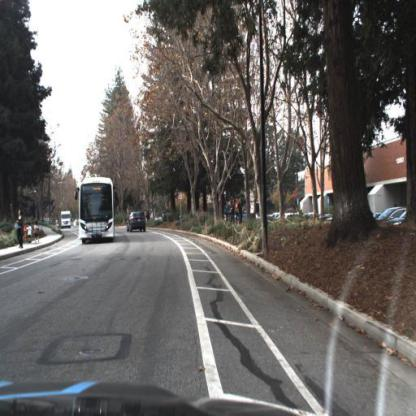car: (128, 212, 146, 235)
pedestrian: (16, 210, 26, 250), (226, 197, 236, 226), (35, 220, 43, 245), (235, 198, 240, 229), (34, 221, 40, 245), (238, 200, 243, 225), (27, 220, 32, 243)
truck: (80, 180, 115, 245)
